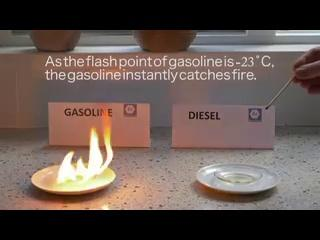Fire: (56, 111, 122, 187)
